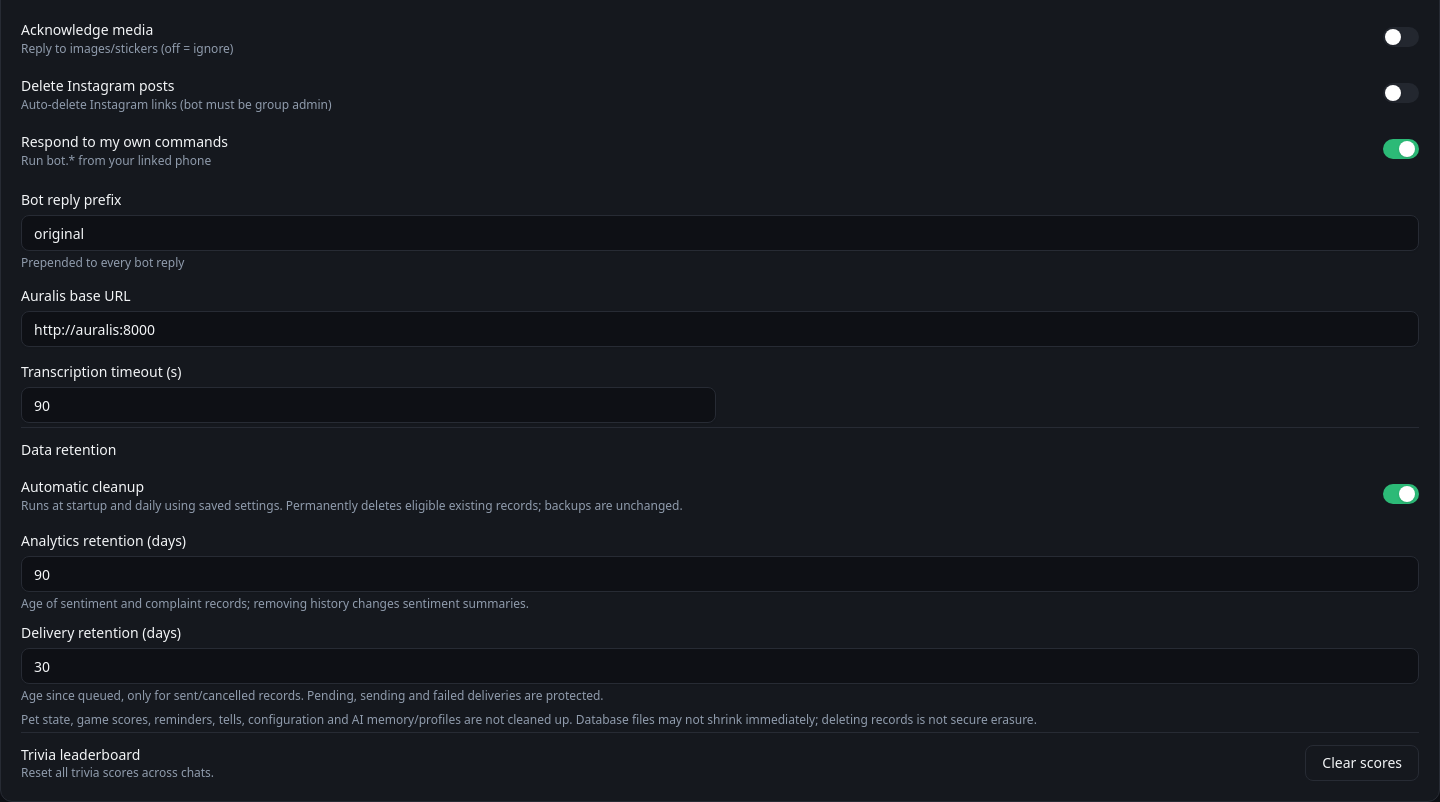
retention controls › keeps invalid retention draft  without publishing a fallback
The width and height of the screenshot is (1440, 802).
(page scrolled)
Clear the number field labelled "Analytics retention (days)" at (720, 574), box [21,556,1419,592]
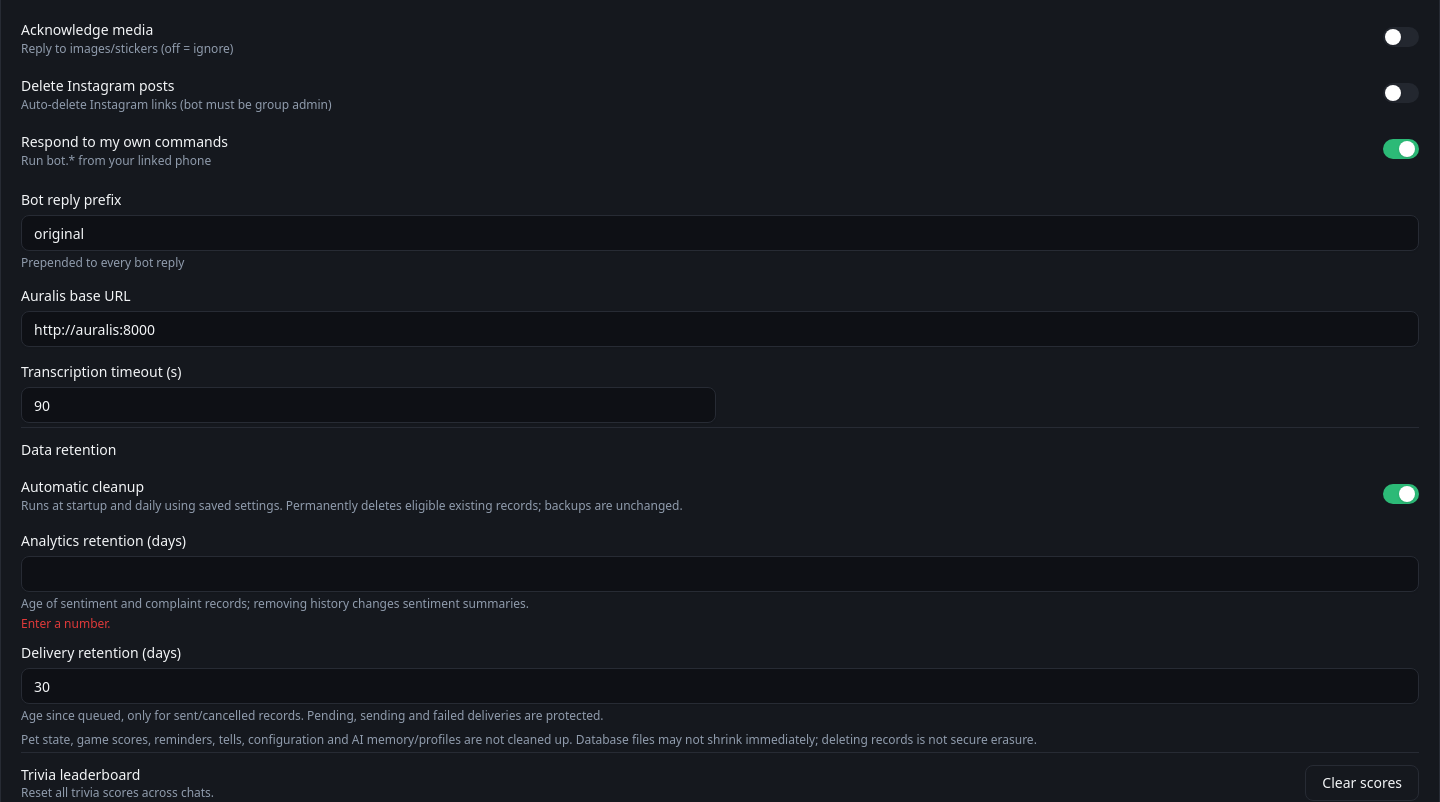
Now the message "Enter a number." is shown, box [21,615,111,632]
